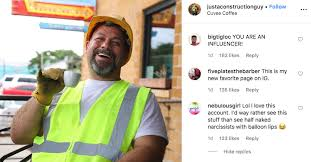high-vis: (32, 77, 150, 162)
